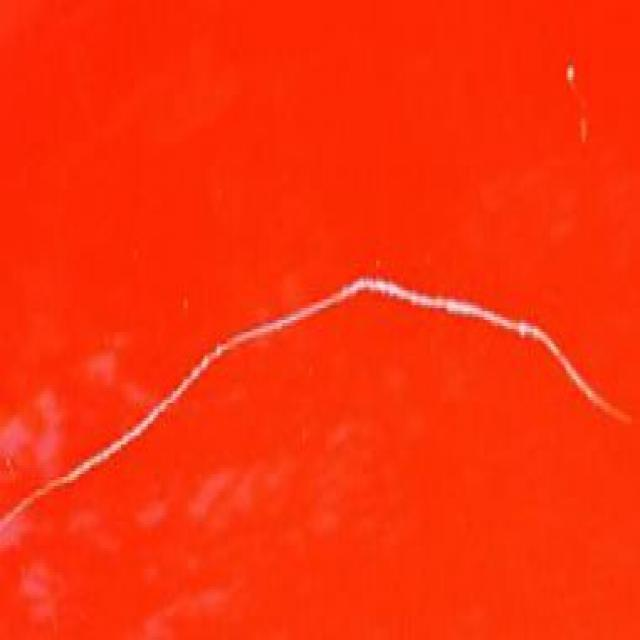scratch: (0, 272, 637, 552)
